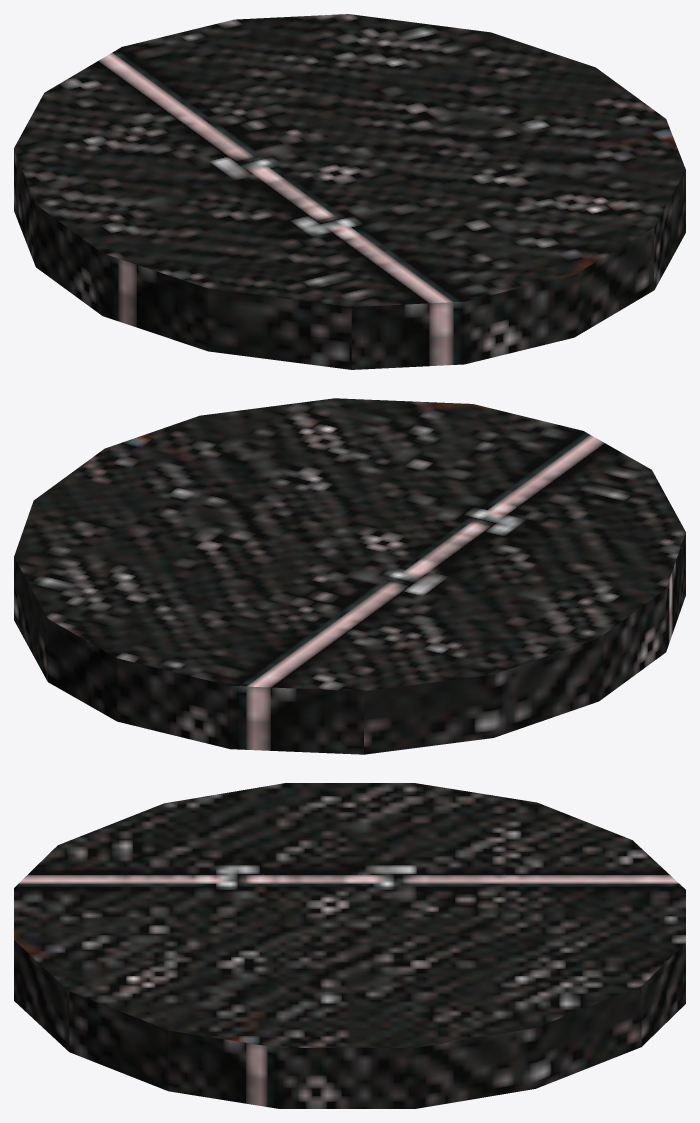
The model's file is Slab3.glb.
3 views of the same model, one above another, from view 1: azimuth 30°, elevation 25°; view 2: azimuth 150°, elevation 25°; view 3: azimuth 270°, elevation 25° (orthographic). The views are drawn at different scales.
Parts seen in each view (by area): view 1: Slab3; view 2: Slab3; view 3: Slab3.
Part boxes in pixels (box(x1,y1,x2,y2)): Slab3: box(14, 14, 685, 369); Slab3: box(14, 398, 685, 754); Slab3: box(14, 783, 685, 1108).
Bounding box in the file's own units: 84 × 9 × 90.
1 material, 1 textured.
